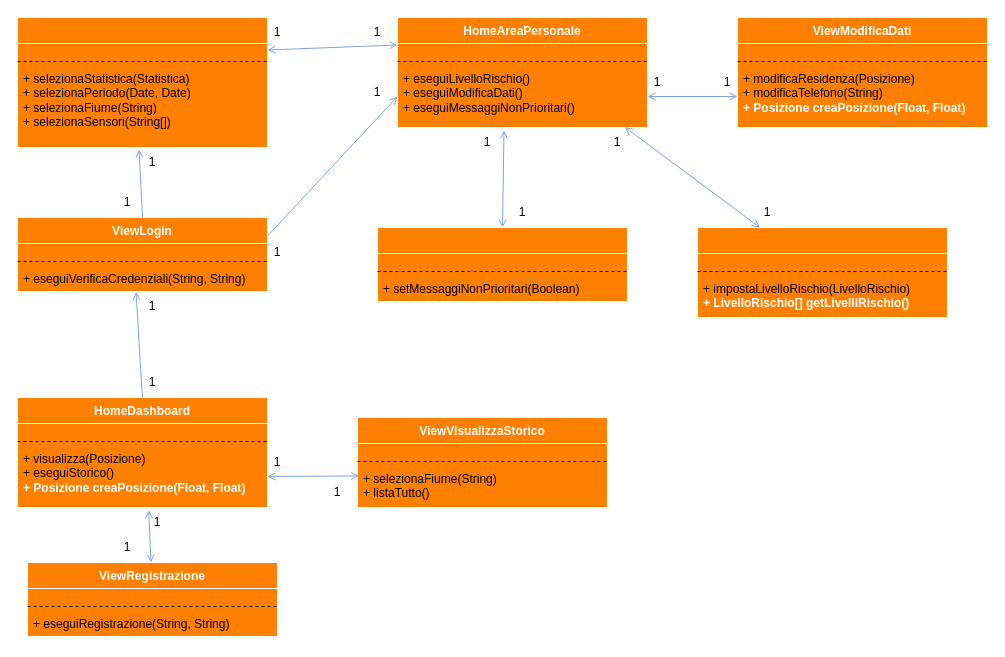
The diagram is 1005 pixels wide and 657 high, and some of its shapes have lost their labels. The shapes that lost their labels are listed below. From the top down, each one's box as (x1, y1, x2, y2) in pixels, then its label:
(16, 16, 268, 148): HomeStatistiche
(376, 226, 628, 302): ViewMessaggiNonPrioritari
(696, 226, 948, 318): ViewLivelloRischio
